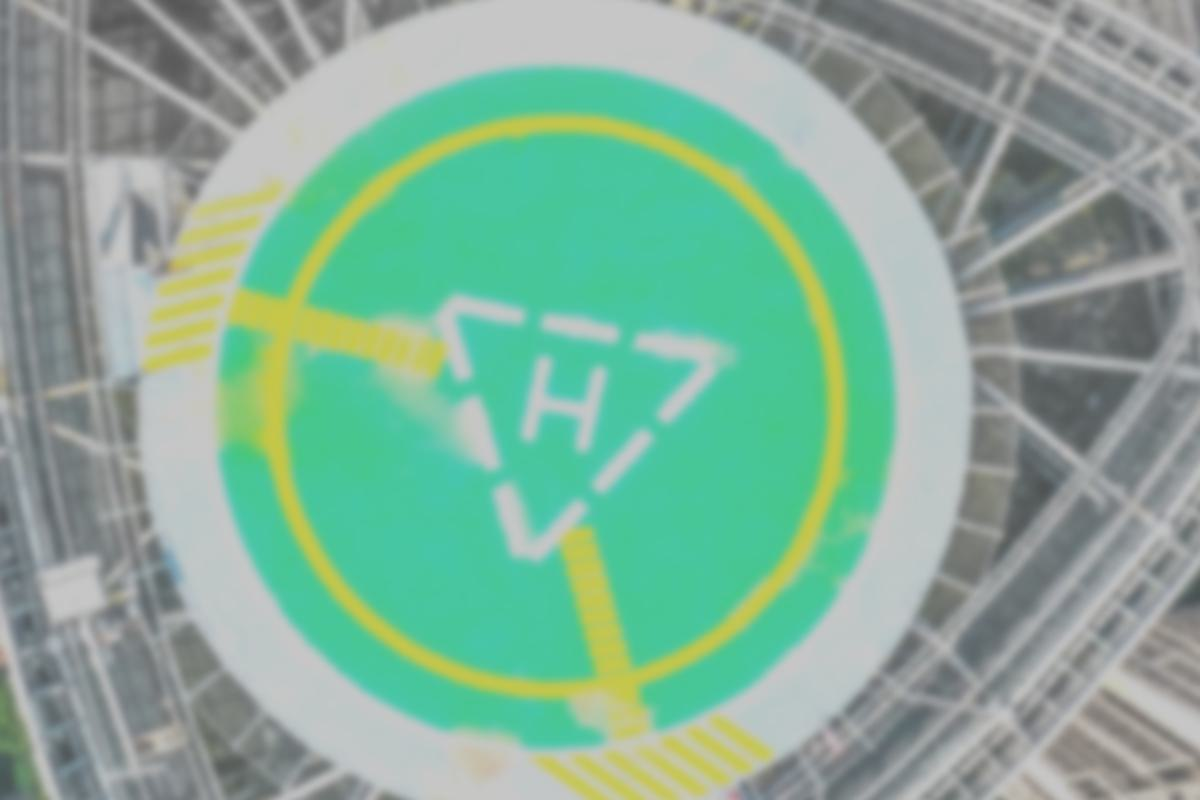Apron: (254, 111, 854, 709)
